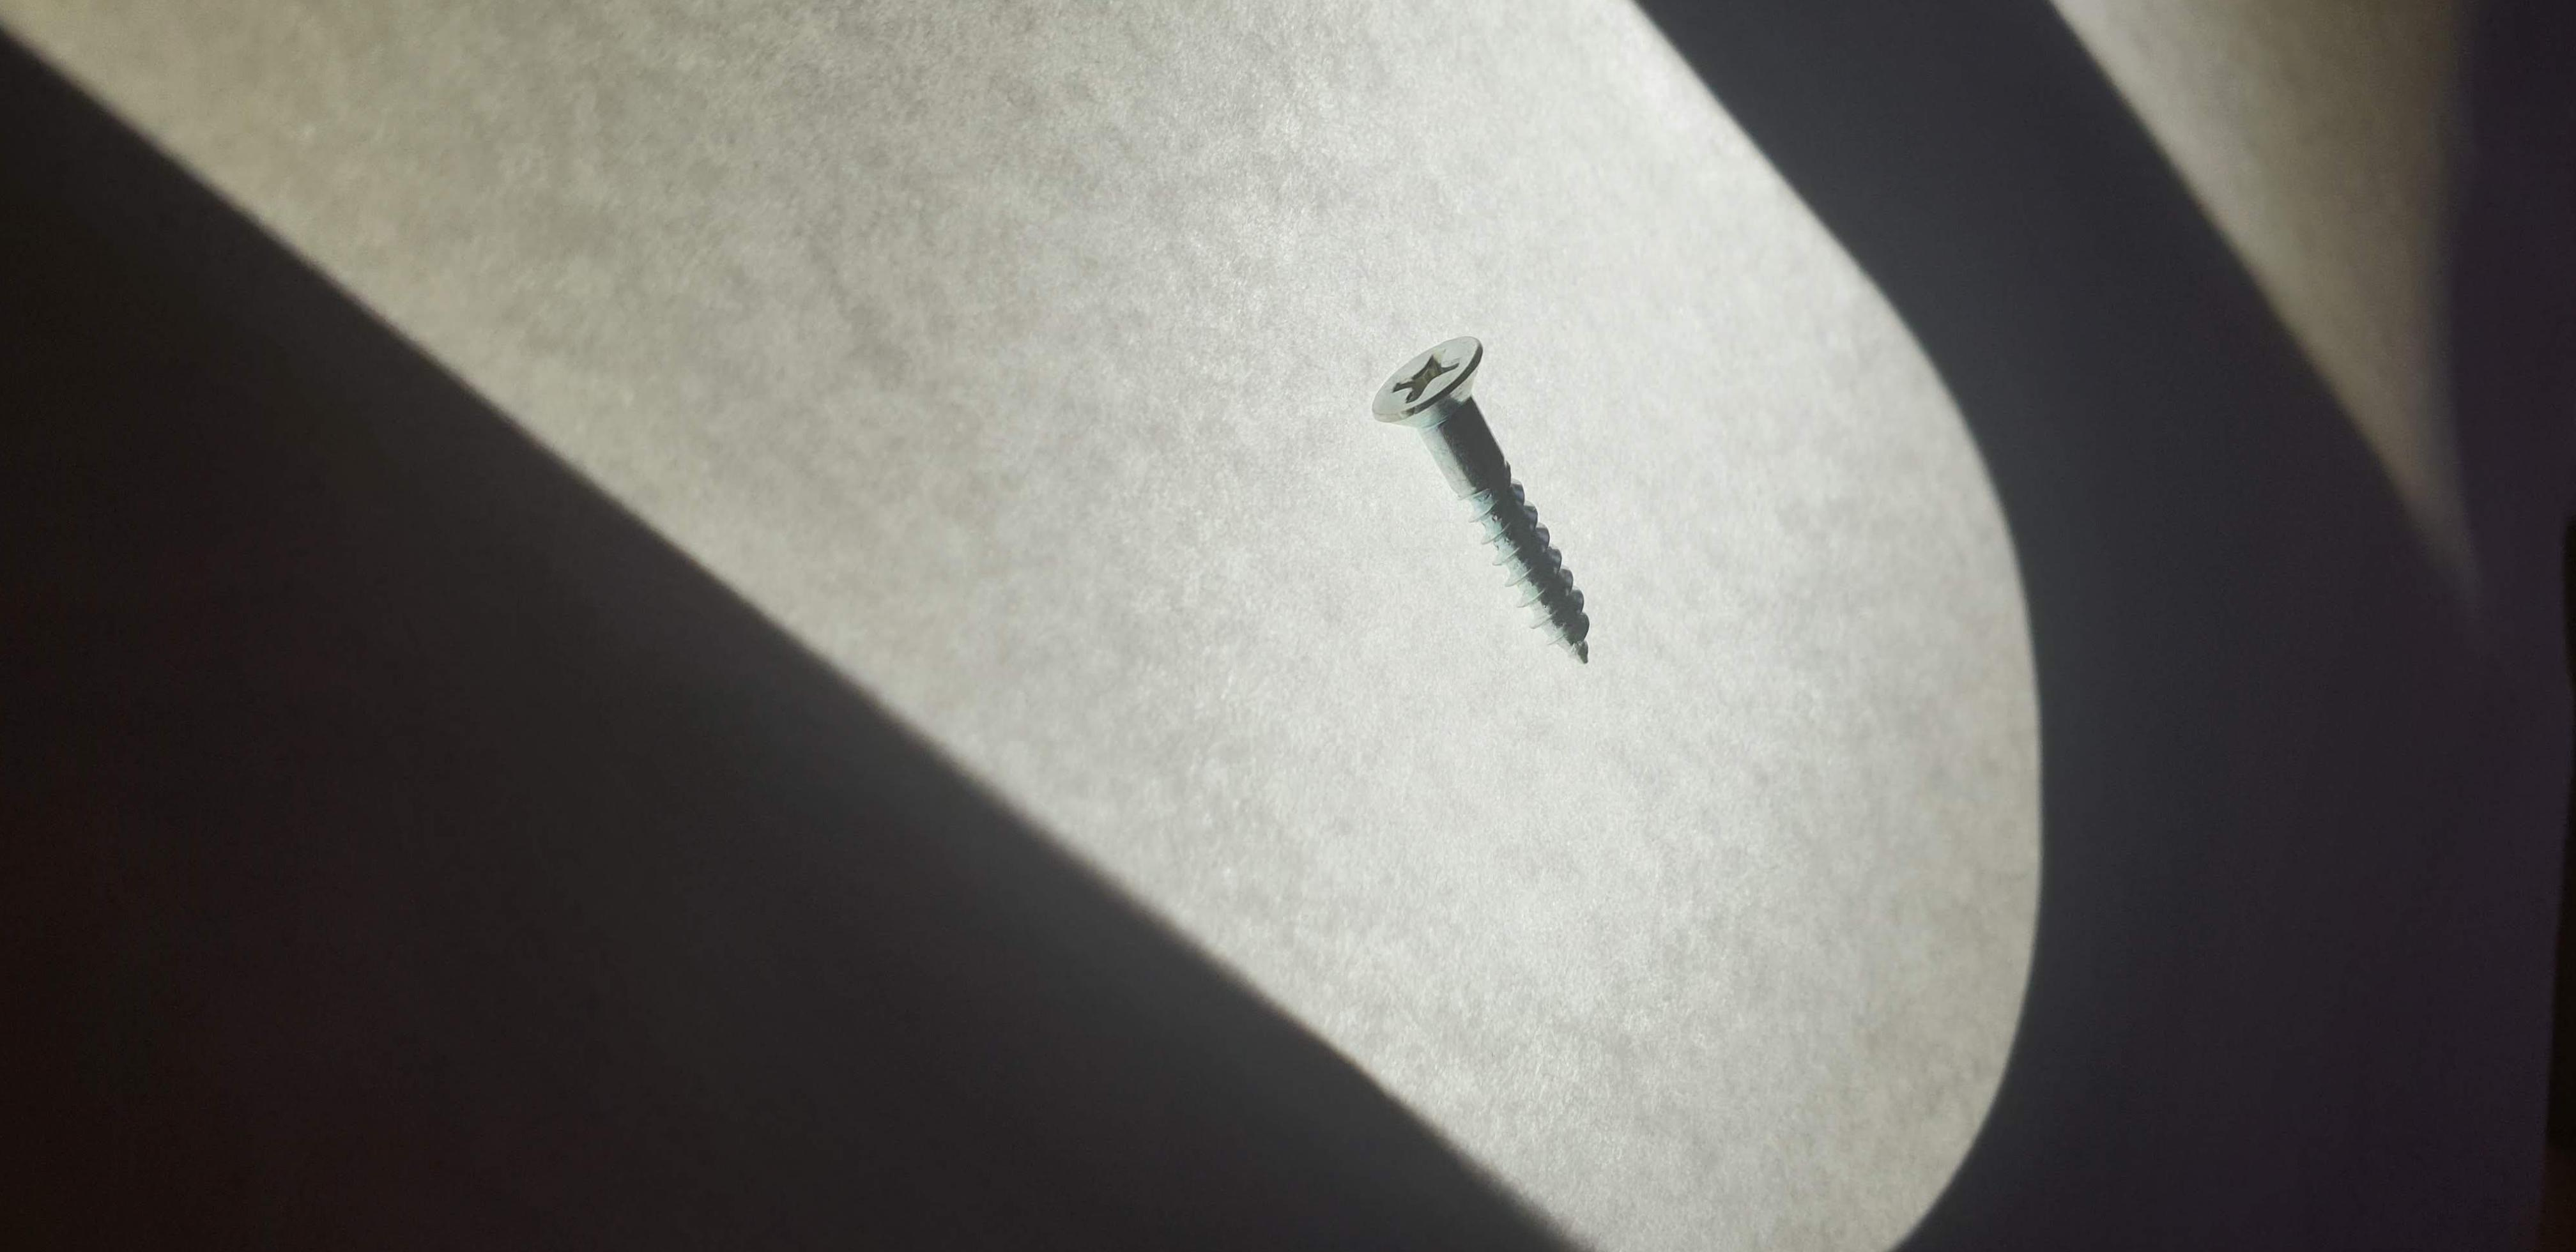S005: (1301, 284, 1682, 728)
